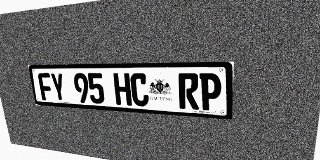5: (87, 73, 105, 104)
9: (73, 73, 90, 103)
C: (130, 73, 149, 107)
F: (37, 73, 54, 101)
H: (113, 73, 132, 106)
P: (199, 73, 221, 111)
R: (178, 73, 199, 110)
Y: (50, 73, 67, 102)
